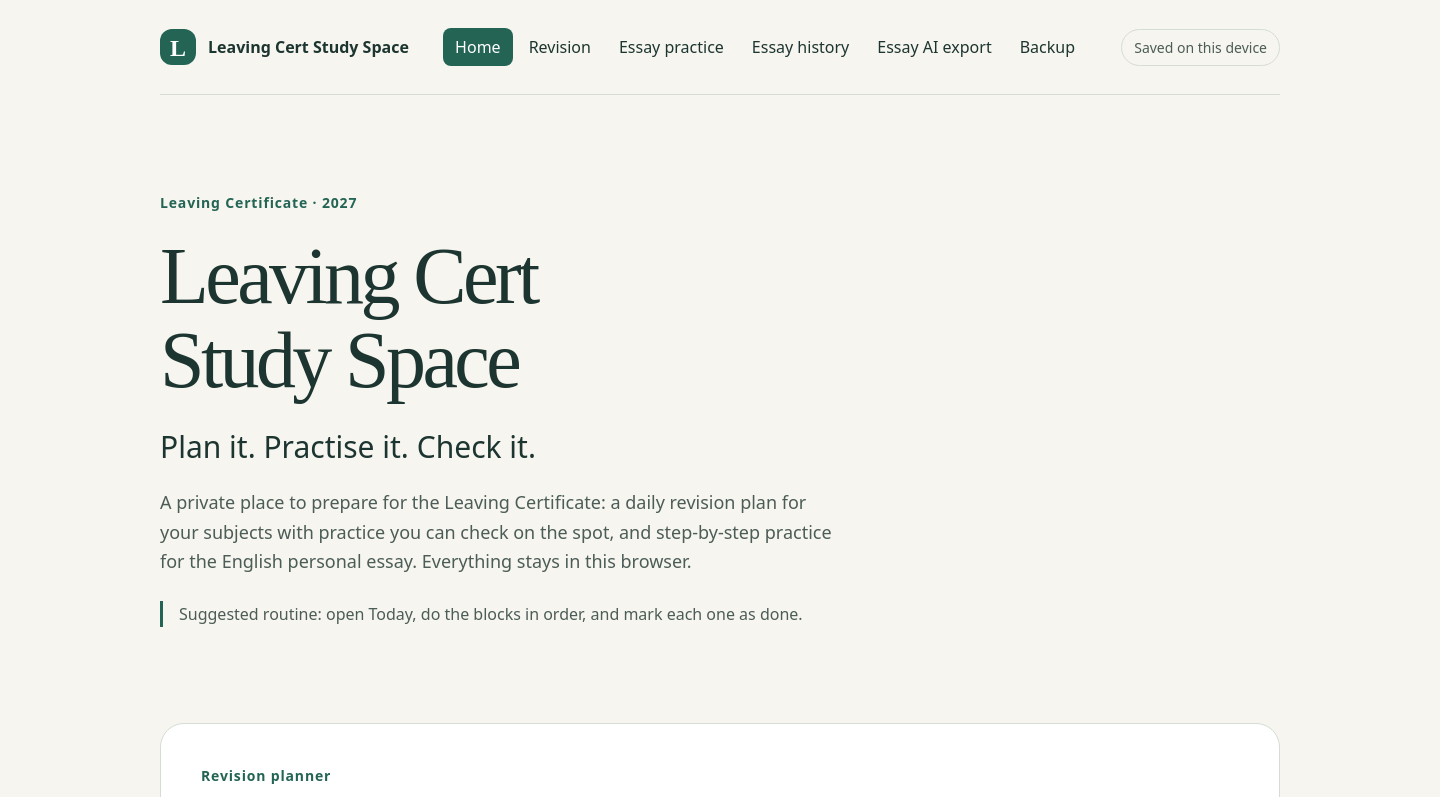
App routing › navigates between pages, updates the title, and moves focus to the content
Click the link "Essay practice": (671, 47) [619,36,724,58]
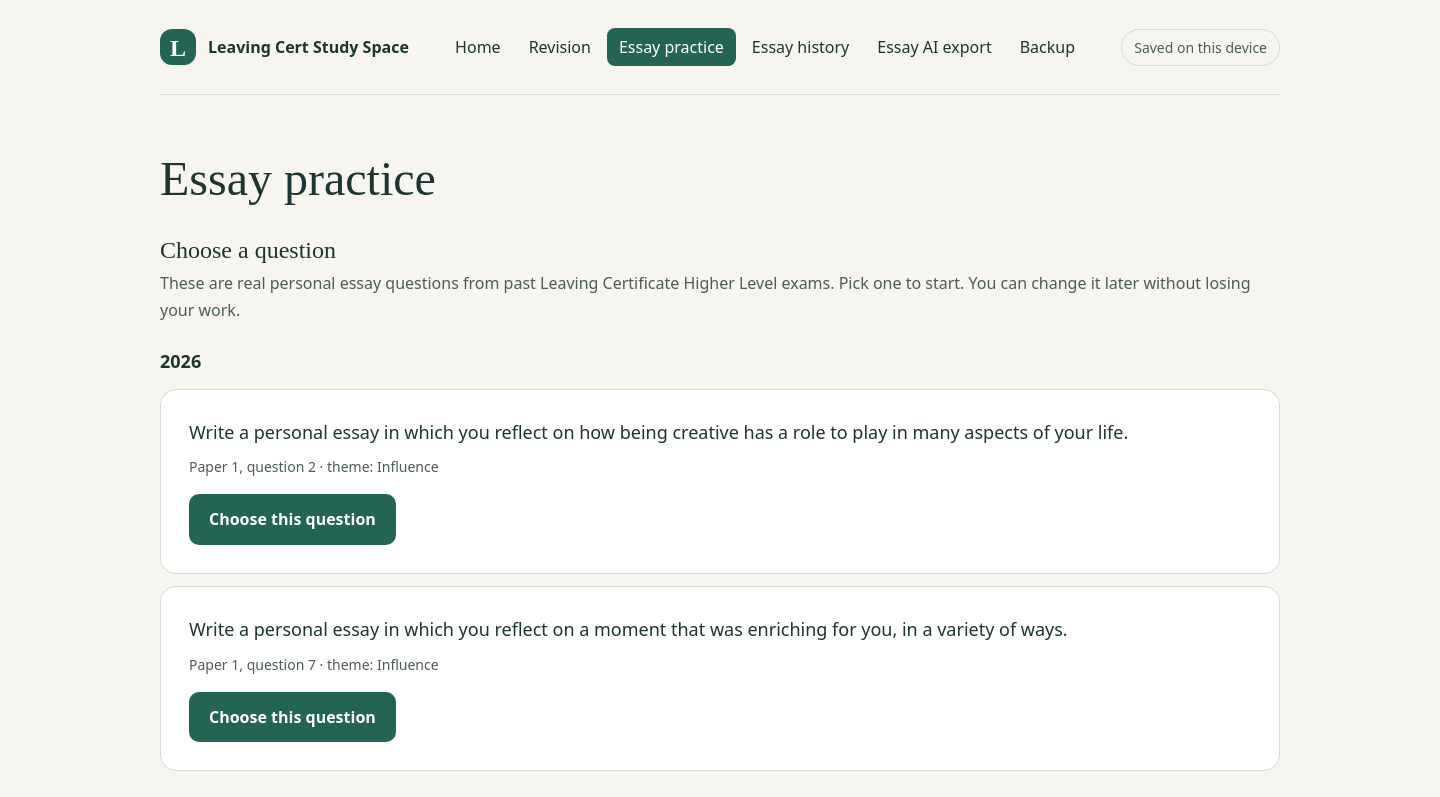
Check: the heading "Essay practice" is shown, box [160,152,436,205]
Click the link "Backup": (1047, 47) [1020,36,1075,58]
(page scrolled)
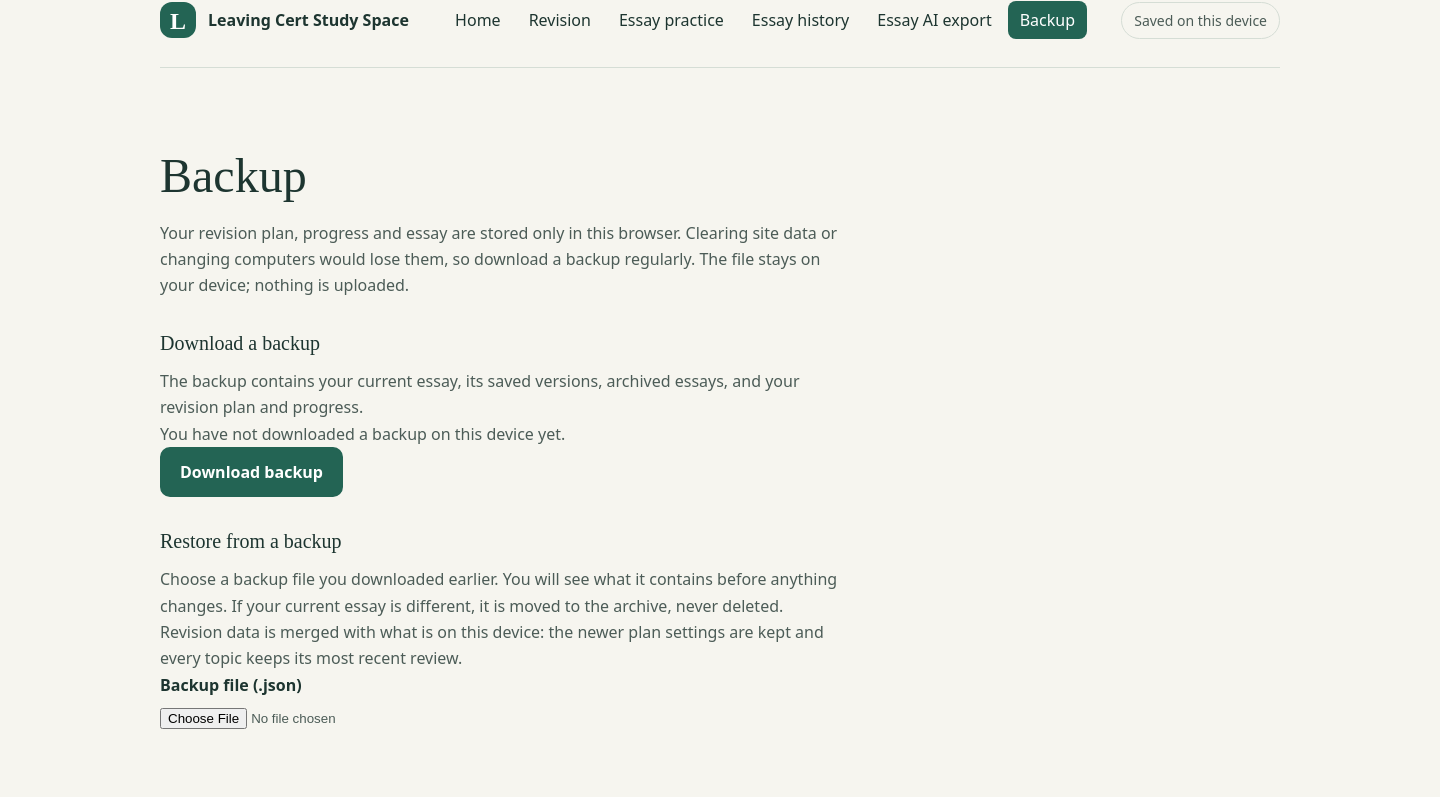
Check: the heading "Backup" is shown, box [160,149,307,202]
